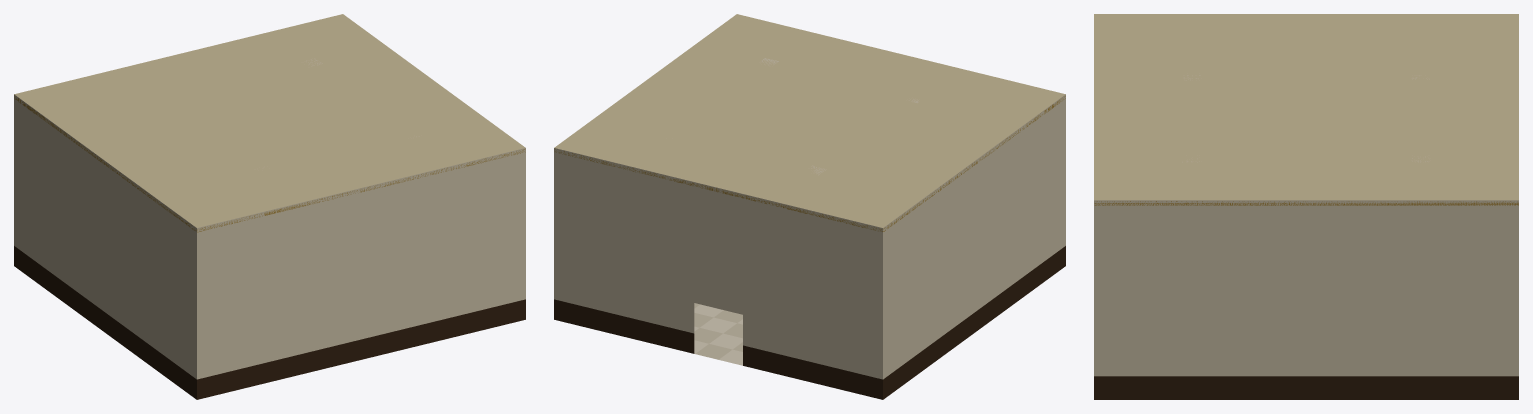
File: banktower_int.glb
3 views of the same model, side by side, from view 1: azimuth 30°, elevation 25°; view 2: azimuth 150°, elevation 25°; view 3: azimuth 270°, elevation 25° (orthographic). The views are drawn at different scales.
Visible parts, largest first — view 1: banktower_int; view 2: banktower_int; view 3: banktower_int.
Boxes of the visible parts, x1,y1,x2,y2 form: banktower_int: (14, 14, 525, 399); banktower_int: (554, 14, 1065, 399); banktower_int: (1094, 14, 1518, 399).
Size of the model in its own units: 27 by 13.5 by 26.
